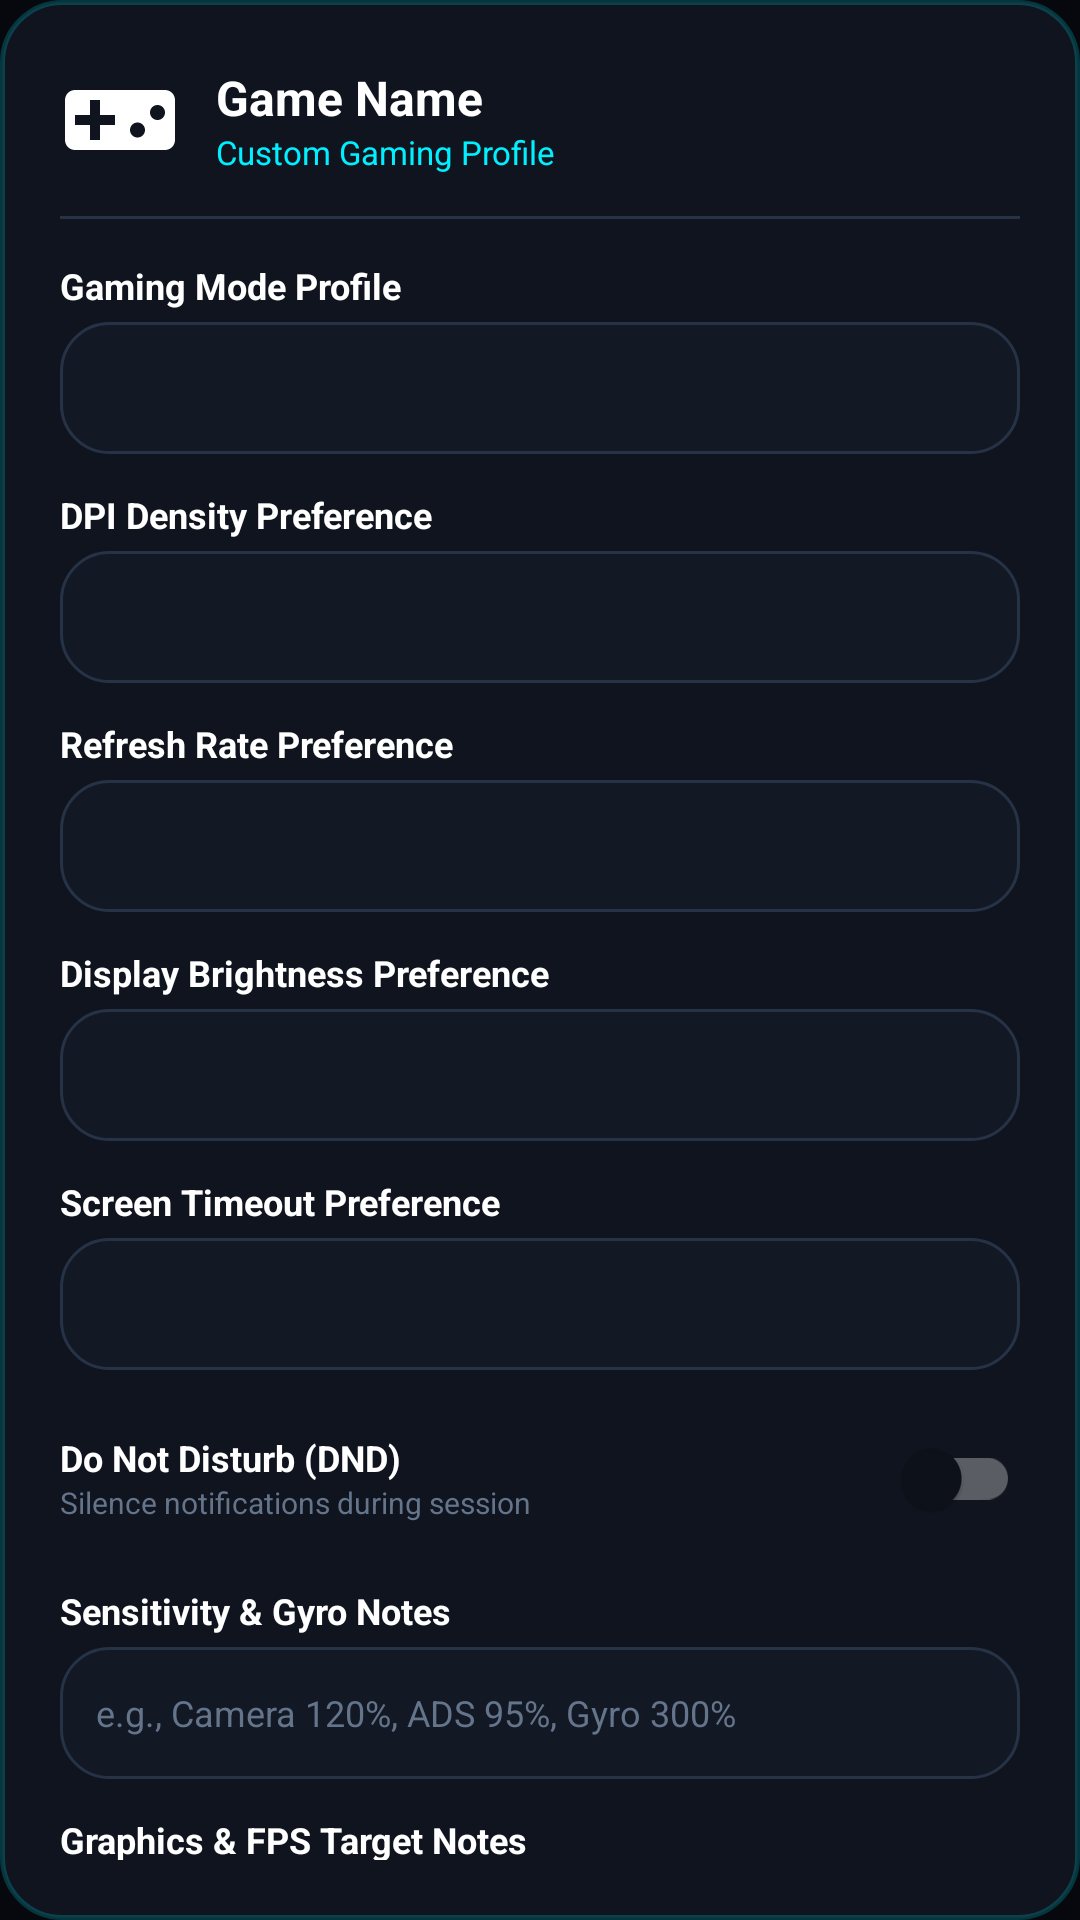

Point at icon controls on the screen. Image size 1080 × 1920, points as (x=x, y=y).
games: (x=120, y=120)
